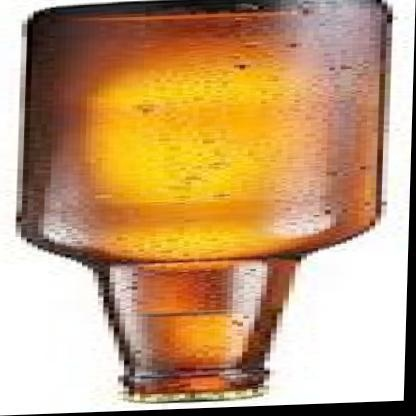trash: (18, 0, 389, 400)
